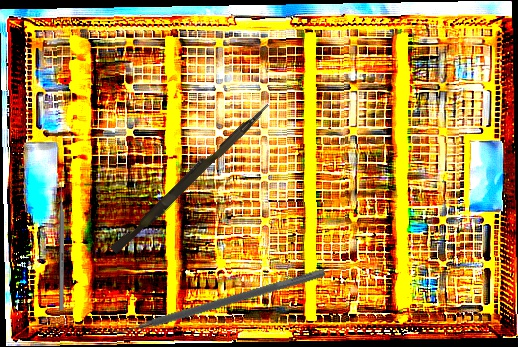Pusher: (109, 96, 272, 259), (59, 177, 64, 310)
Spatula Surgical: (105, 259, 326, 343)
